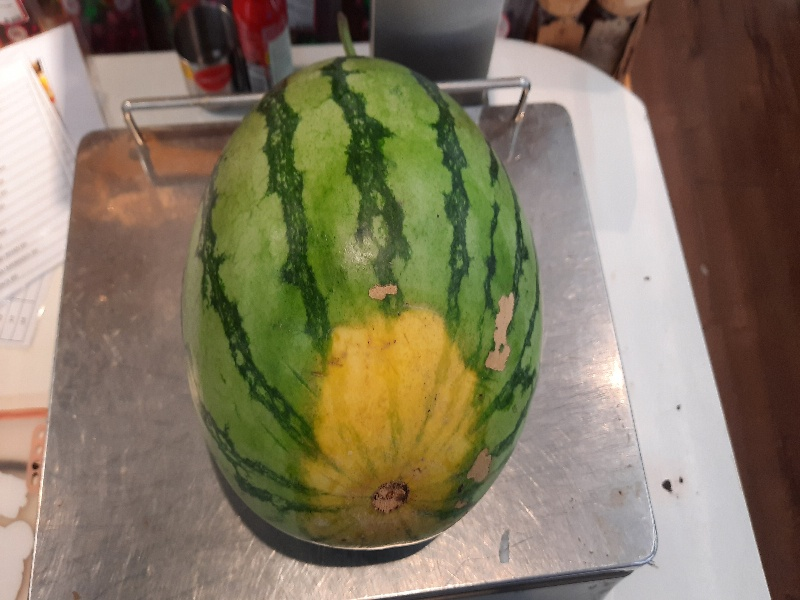fruit: (177, 48, 545, 556)
